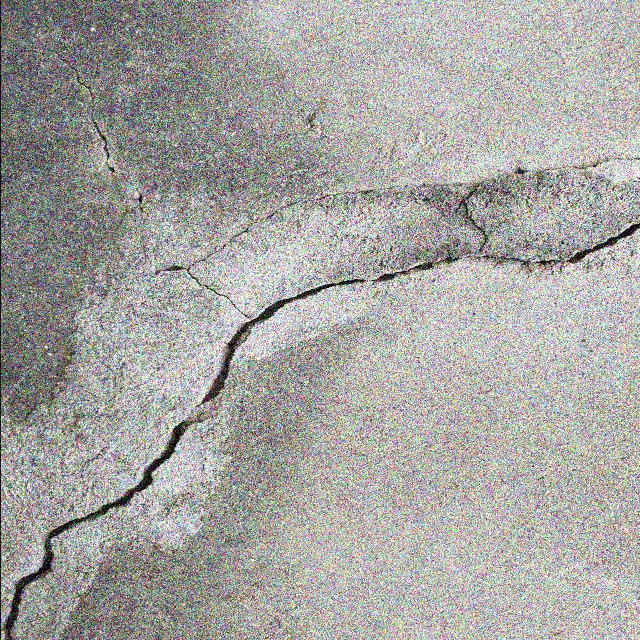SurfaceCrack: (0, 187, 638, 640)
